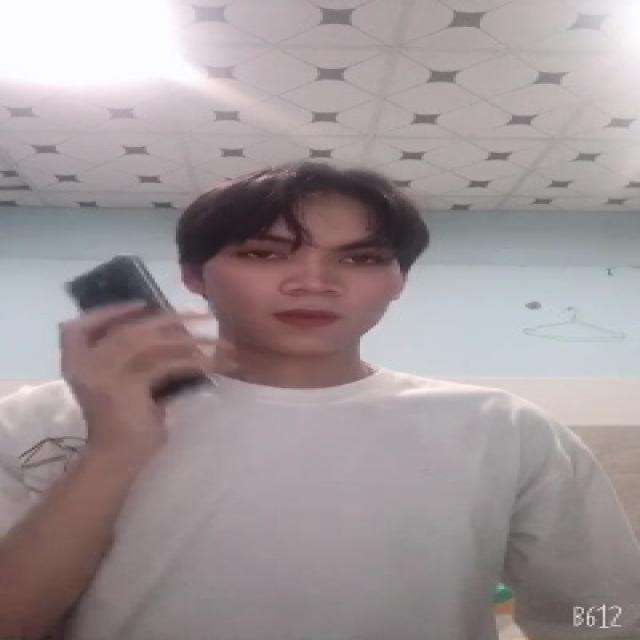Phone: (63, 249, 213, 404)
